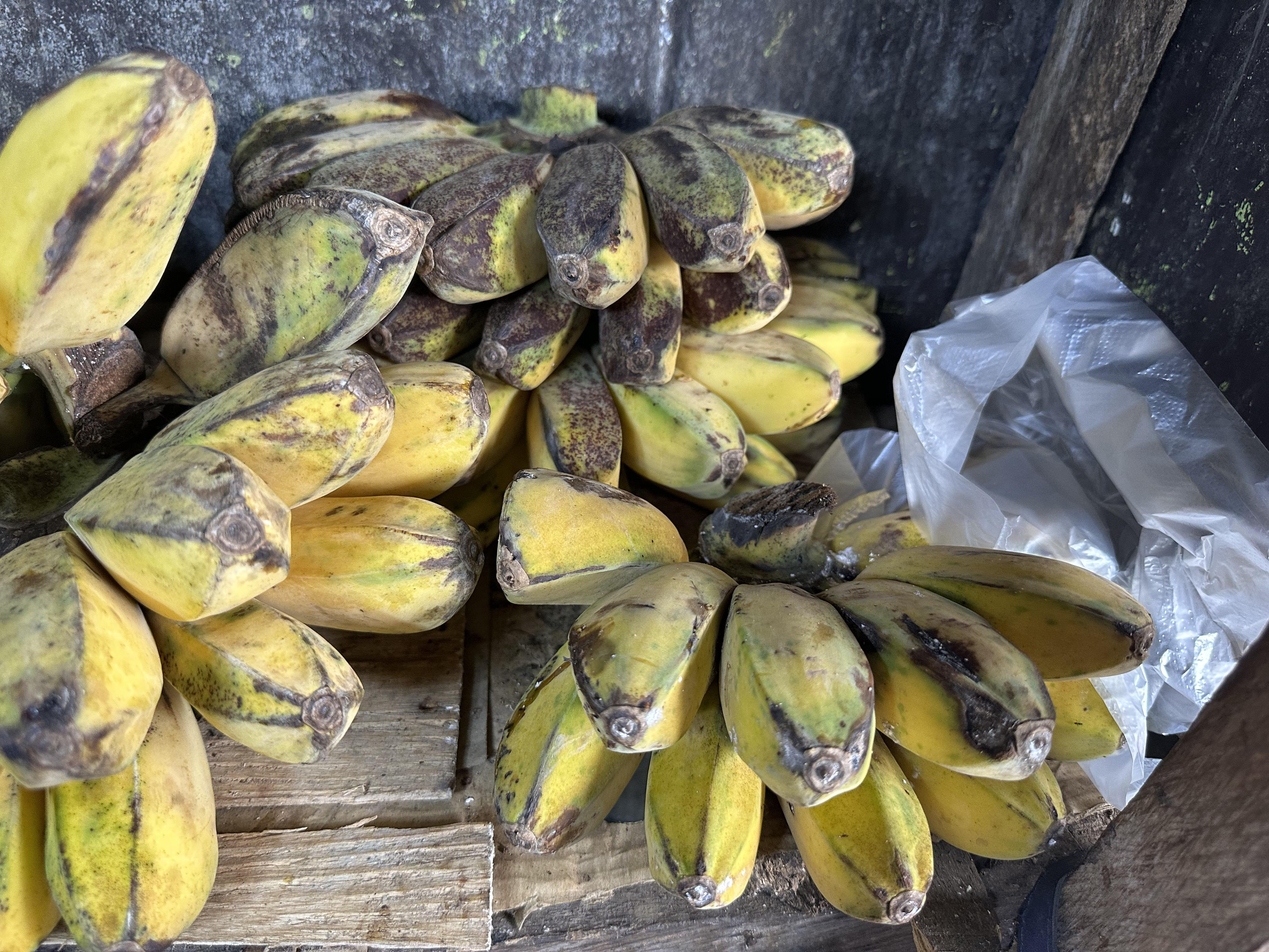underripe: (0, 189, 491, 951), (496, 470, 1153, 924), (230, 91, 854, 390), (527, 238, 883, 505)
